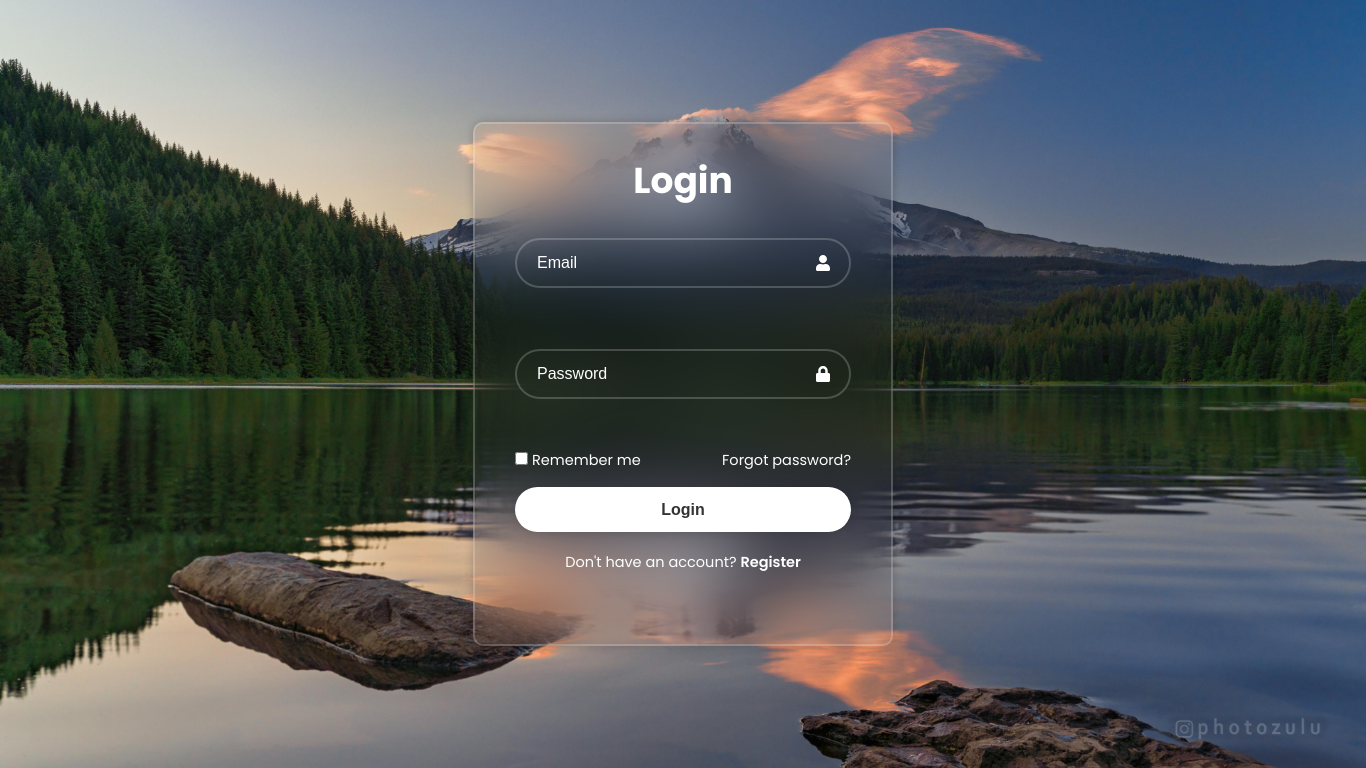
Test case: LoginForm › Shows an error when the email field is empty and Login button is clicked
Click the button with test id "login-button".
click(683, 510)  # box [515, 487, 851, 532]
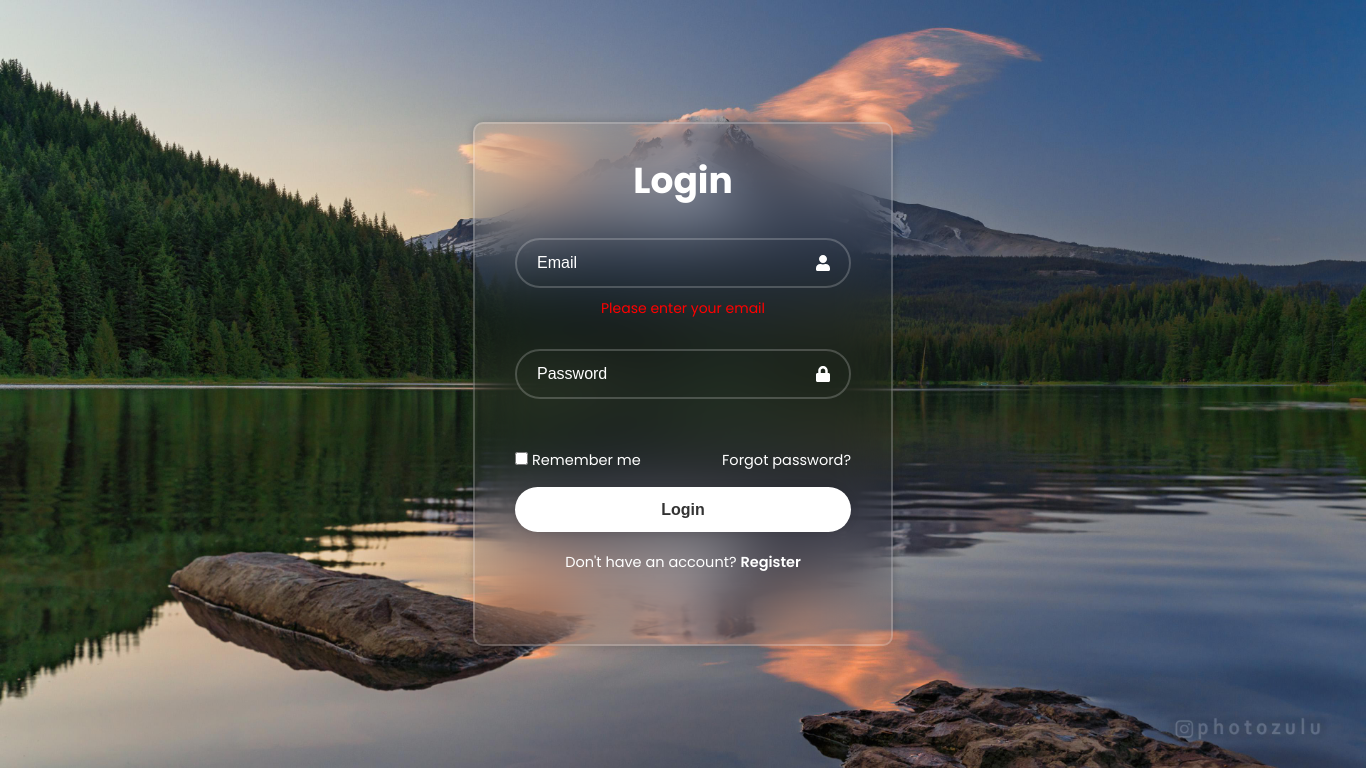
Expected: the element with test id "login-form" shows "Please enter your email", [601, 298, 765, 318]
